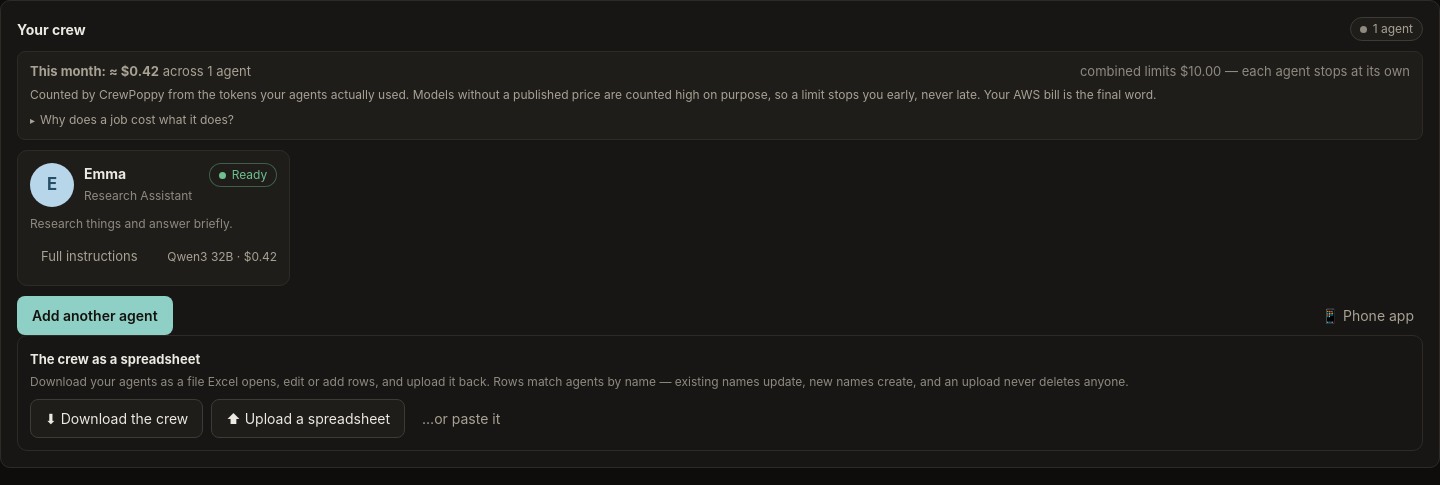
it: the crew grid › opens the conversation from a tile, and the way back is visible
Step 1. Click the button with aria-label "open emma" → (154, 218), box [17,150,290,286]
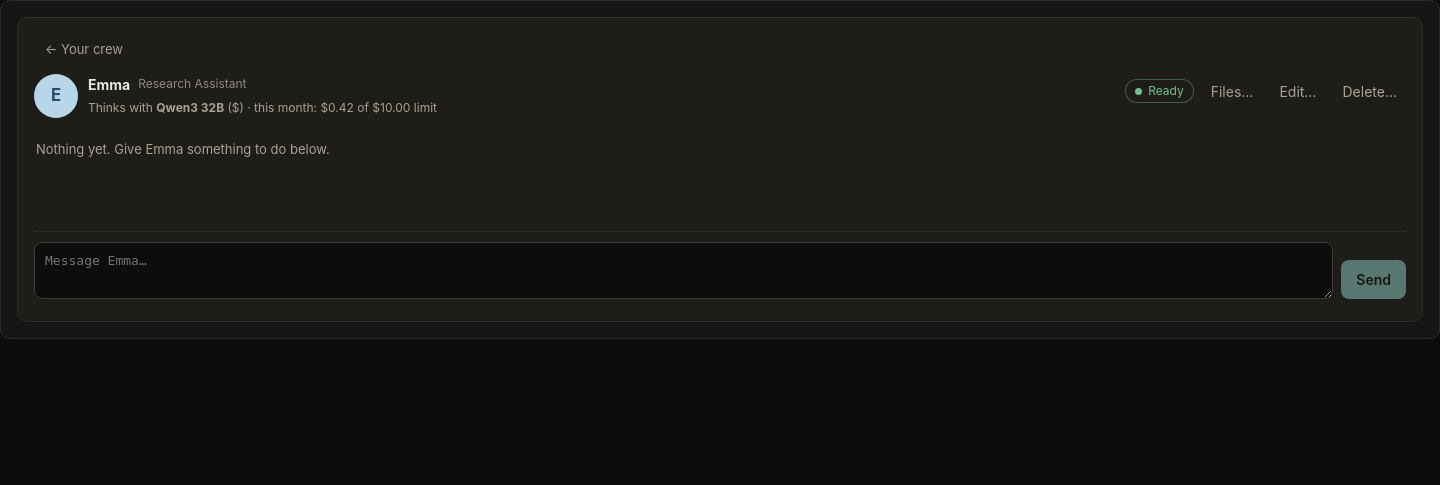
Result: the text box labelled "Message Emma…" is shown at [34,242,1333,299]
Step 2. Click the button "← Your crew" → (84, 50), box [34,34,134,66]
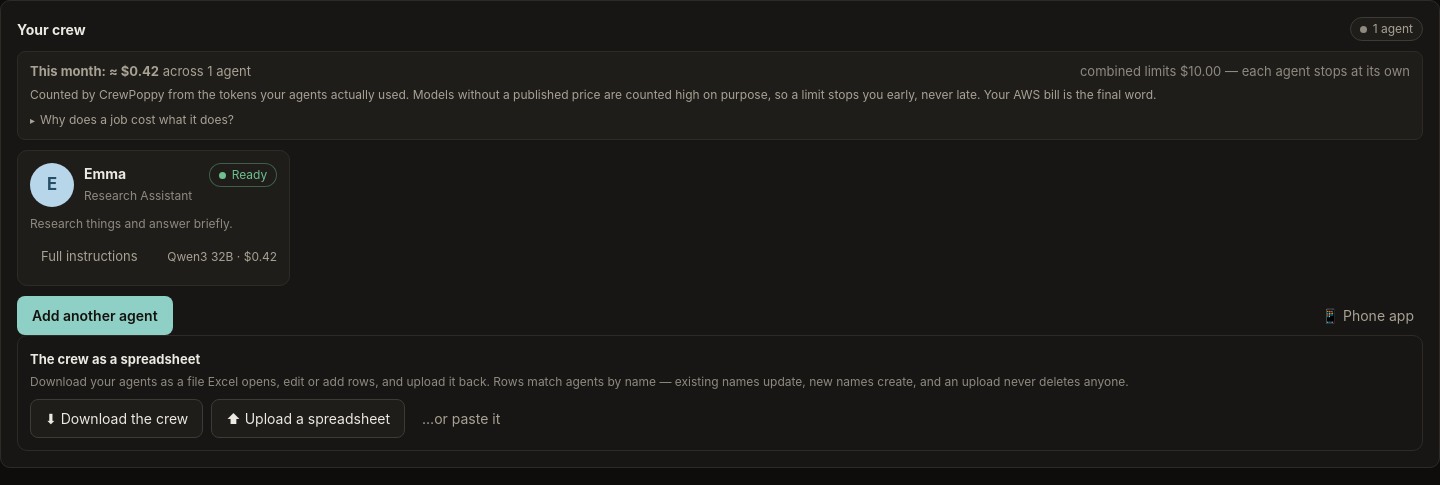
Result: the button with aria-label "open emma" is shown at [17,150,290,286]
